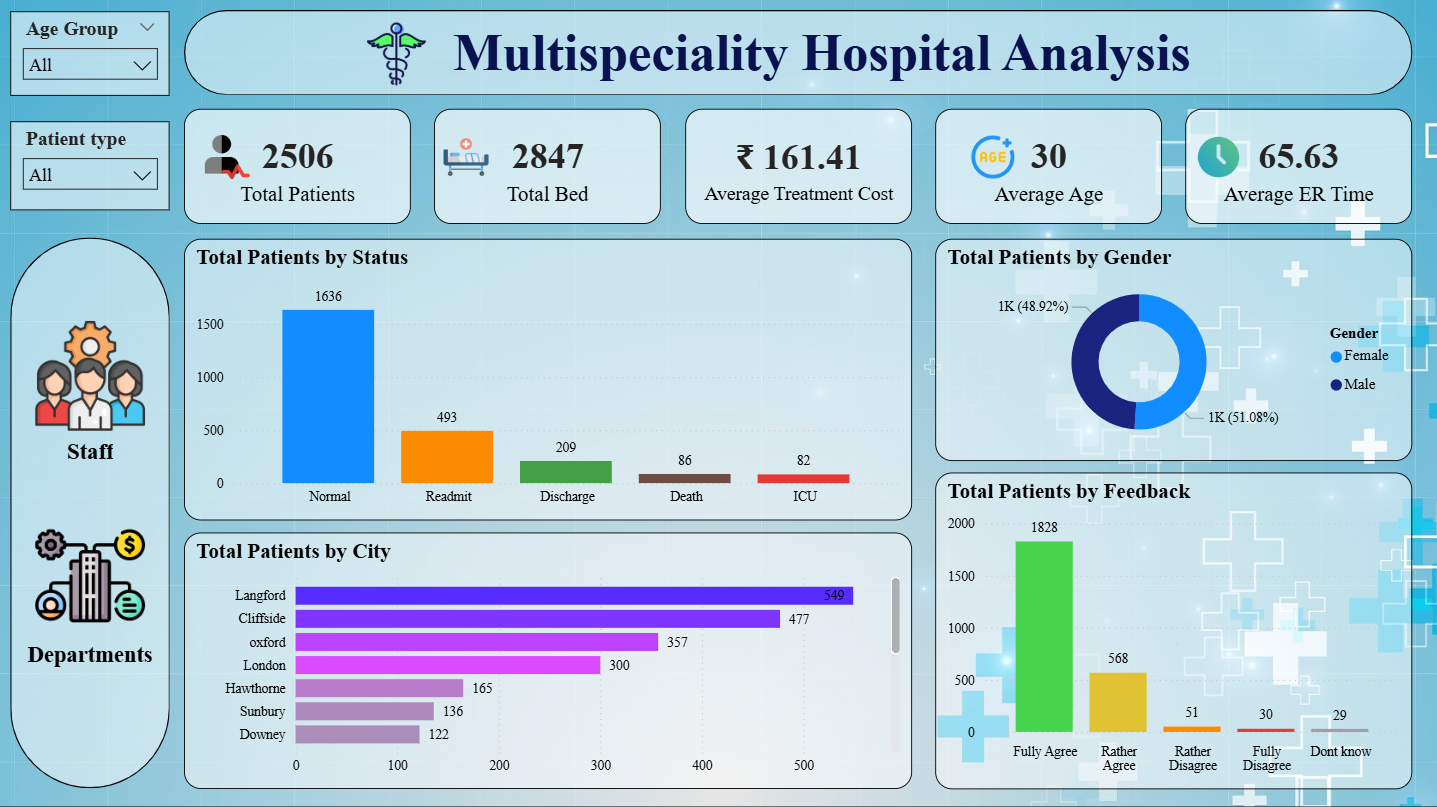

The page's visual inventory and layout, read from the dashboard file:
{"tool":"powerbi","page":{"name":"Hospital Analysis","canvas":[1280,720],"ordinal":0},"visuals":[{"type":"shape","box":[164,9.3,1091.9,75.6],"z":0},{"type":"card","fields":{"Values":["Measure.Total Bed"]},"box":[386.6,96.5,201.6,102.3],"z":0,"group":"g1"},{"type":"group","id":"g1","title":"Group 1","box":[164,96.5,1091.9,604.7],"z":1000},{"type":"card","fields":{"Values":["Measure.Average Treatment Cost"]},"box":[609.1,96.5,201.6,102.3],"z":1000,"group":"g1"},{"type":"shape","box":[325.6,9.3,811.6,75.6],"z":2000},{"type":"card","fields":{"Values":["Measure.Total Patients"]},"box":[164,96.5,201.6,102.3],"z":2000,"group":"g1"},{"type":"shape","box":[10.5,211.6,141.9,489.5],"z":2000,"group":"g2"},{"type":"image","box":[304.7,19.8,97.7,55.8],"z":3000},{"type":"card","fields":{"Values":["Measure.Average ER Time"]},"box":[1054.2,96.5,201.6,102.3],"z":3000,"group":"g1"},{"type":"image","box":[32.6,259.3,97.7,150],"z":3000,"group":"g2"},{"type":"card","fields":{"Values":["Measure.Average Age"]},"box":[831.7,96.5,201.6,102.3],"z":4000,"group":"g1"},{"type":"group","id":"g2","title":"Group 2","box":[10.5,211.6,141.9,489.5],"z":4000},{"type":"image","box":[32.6,437.2,97.7,150],"z":4000,"group":"g2"},{"type":"slicer","fields":{"Values":["Detail data dataset.Age Group"]},"box":[10.5,10.5,141.9,75.6],"z":5000},{"type":"donutChart","fields":{"Category":["Detail data dataset.Gender"],"Y":["Measure.Total Patients"]},"box":[832,211.6,423.9,197.7],"z":5000,"group":"g1"},{"type":"shape","box":[10.5,390.7,141.9,29.1],"z":5000,"group":"g2"},{"type":"slicer","fields":{"Values":["Detail data dataset.Patient type"]},"box":[10.5,108.1,141.9,79.1],"z":6000},{"type":"clusteredBarChart","fields":{"Y":["Measure.Total Patients"],"Category":["Detail data dataset.City"]},"box":[164,473.2,647.4,227.9],"z":6000,"group":"g1"},{"type":"shape","box":[10.5,572.1,141.9,29.1],"z":6000,"group":"g2"},{"type":"image","box":[173.3,119.8,59.3,39.5],"z":6001},{"type":"image","box":[857,119.8,53.5,39.5],"z":6002},{"type":"image","box":[386,119.8,59.3,39.5],"z":6003},{"type":"image","box":[1054.7,119.8,59.3,39.5],"z":6004},{"type":"clusteredColumnChart","fields":{"Y":["Measure.Total Patients"],"Category":["Detail data dataset.Feedback"]},"box":[832,419.8,423.9,281.4],"z":7000,"group":"g1"},{"type":"clusteredColumnChart","fields":{"Category":["Detail data dataset.Status"],"Y":["Measure.Total Patients"]},"box":[164,211.6,647.4,250],"z":8000,"group":"g1"}]}

Visuals, with their boxes in screenshot pixels (x1, y1, x2, y2), scaled from the page's 1280x720 canvas onto the 1437x807 screenshot:
shape: select_region(184, 10, 1410, 95)
card - Measure.Total Bed: select_region(434, 108, 660, 223)
"Group 1" group: select_region(184, 108, 1410, 786)
card - Measure.Average Treatment Cost: select_region(684, 108, 910, 223)
shape: select_region(366, 10, 1277, 95)
card - Measure.Total Patients: select_region(184, 108, 410, 223)
shape: select_region(12, 237, 171, 786)
image: select_region(342, 22, 452, 85)
card - Measure.Average ER Time: select_region(1184, 108, 1410, 223)
image: select_region(37, 291, 146, 459)
card - Measure.Average Age: select_region(934, 108, 1160, 223)
"Group 2" group: select_region(12, 237, 171, 786)
image: select_region(37, 490, 146, 658)
slicer - Detail data dataset.Age Group: select_region(12, 12, 171, 97)
donutChart - Detail data dataset.Gender x Measure.Total Patients: select_region(934, 237, 1410, 459)
shape: select_region(12, 438, 171, 471)
slicer - Detail data dataset.Patient type: select_region(12, 121, 171, 210)
clusteredBarChart - Measure.Total Patients x Detail data dataset.City: select_region(184, 530, 911, 786)
shape: select_region(12, 641, 171, 674)
image: select_region(195, 134, 261, 179)
image: select_region(962, 134, 1022, 179)
image: select_region(433, 134, 500, 179)
image: select_region(1184, 134, 1251, 179)
clusteredColumnChart - Measure.Total Patients x Detail data dataset.Feedback: select_region(934, 471, 1410, 786)
clusteredColumnChart - Detail data dataset.Status x Measure.Total Patients: select_region(184, 237, 911, 517)
